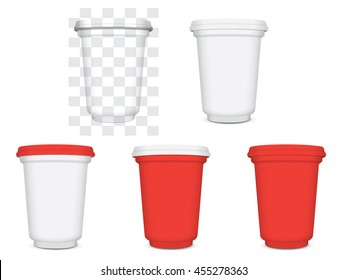plastic_glass: (187, 13, 280, 125), (246, 137, 334, 254), (127, 139, 214, 257), (14, 141, 101, 255), (72, 16, 162, 123)
